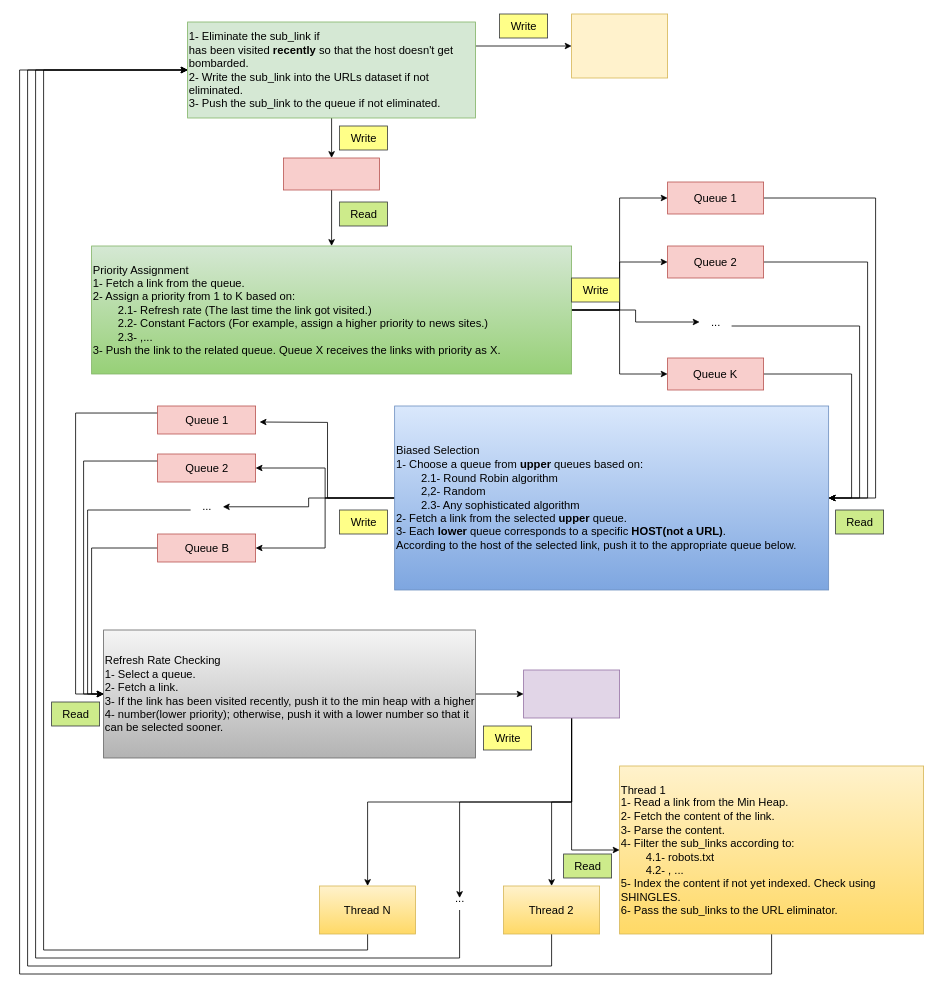
This 938x994 diagram has some shape labels left out. Here are the shapes that lost their labels. From the top down, the box of each, then its label:
(571, 13, 668, 78): URLs dataset
(283, 157, 380, 190): Queue
(523, 669, 620, 718): Min Heap
